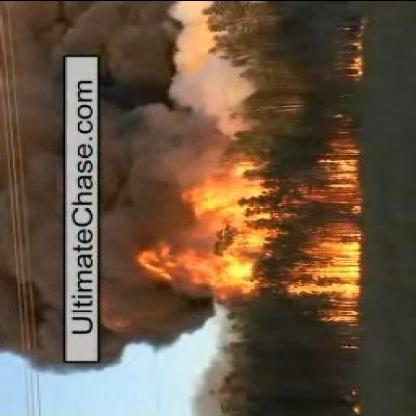-: (107, 34, 188, 342), (10, 42, 60, 372)
foggia-v2-map80-epoch100 - v1 4323: (289, 240, 361, 297)
